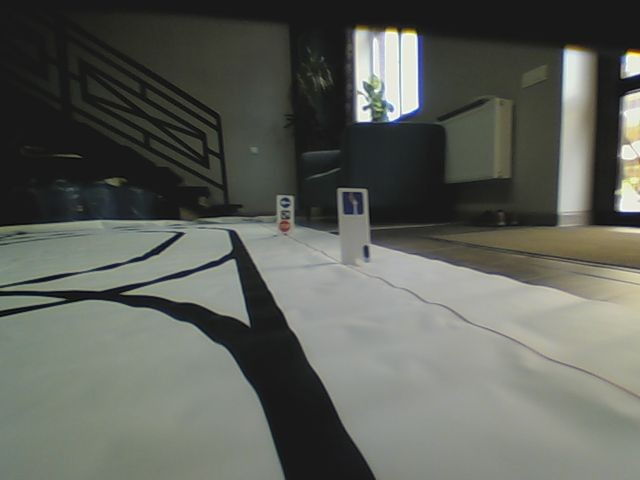priority_movement: (341, 191, 365, 217)
